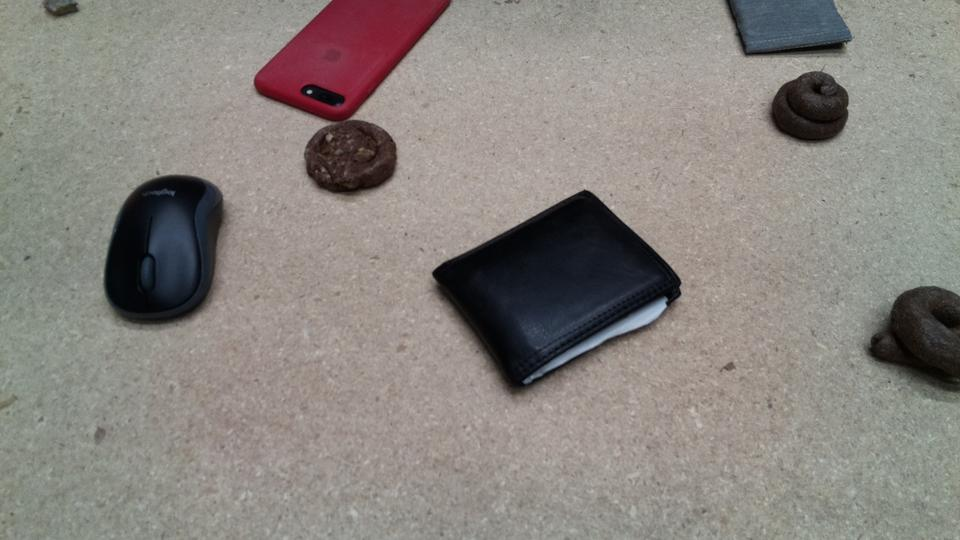poop: (867, 282, 960, 389), (301, 118, 399, 196), (767, 69, 852, 145)
